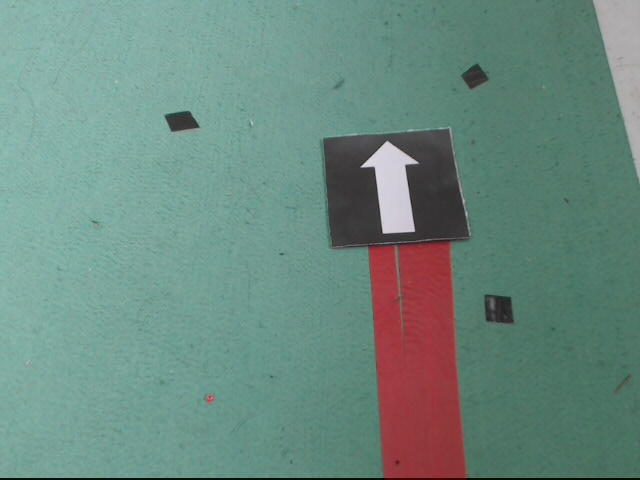straight: (323, 127, 468, 248)
